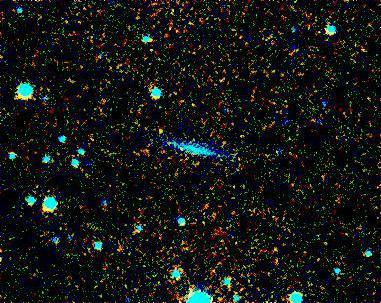star: (144, 119, 174, 149)
